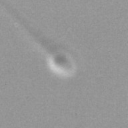normal: (1, 1, 50, 54)
